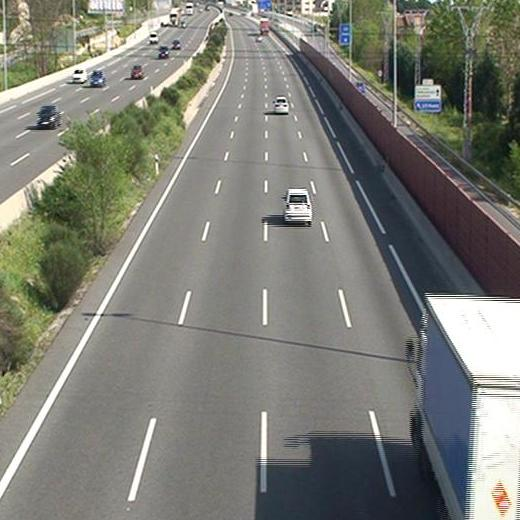car: (283, 189, 313, 222), (274, 97, 289, 113)
small-truck: (411, 293, 520, 520)
